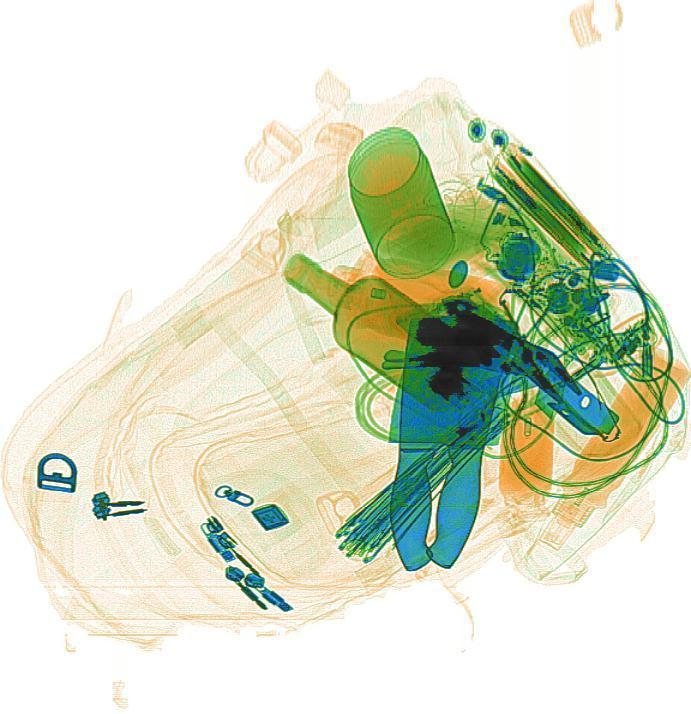Knife: (365, 303, 522, 579), (364, 303, 517, 569)
